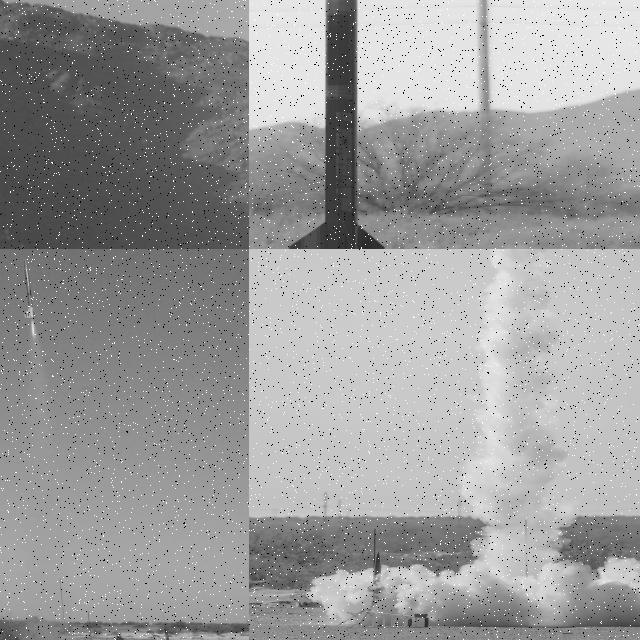Rocket: (288, 0, 392, 249), (23, 258, 38, 320), (367, 551, 387, 594)
